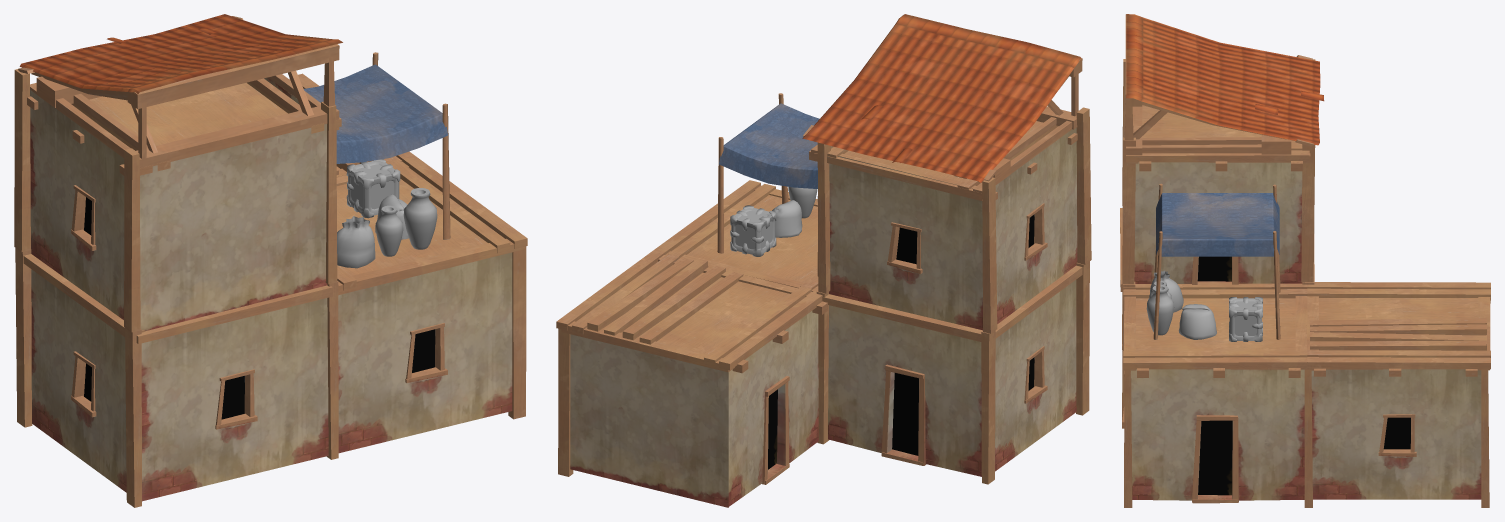
Rendered from SM_house_4.fbx.
3 views of the same model, side by side, from view 1: azimuth 30°, elevation 25°; view 2: azimuth 150°, elevation 25°; view 3: azimuth 270°, elevation 25° (orthographic). The views are drawn at different scales.
Parts seen in each view (by area): view 1: polySurface1076, polySurface995, polySurface993, polySurface994, polySurface992, polySurface1053, polySurface991, SM_SmallCrate3, polySurface998, polySurface999, SM_Bag_012, polySurface990 (+2 smaller); view 2: polySurface1076, polySurface992, polySurface993, polySurface995, polySurface994, SM_SmallCrate3, polySurface989, polySurface1052, polySurface996, polySurface1046, polySurface1047, polySurface1045 (+4 smaller); view 3: polySurface1076, polySurface1045, polySurface998, polySurface996, polySurface1047, SM_SmallCrate3, polySurface1046, polySurface1048, polySurface1054, polySurface1052, SM_Bag_013, polySurface1053 (+2 smaller).
Part boxes in pixels (left/top/right/bottom): polySurface1076: left=18, top=14, right=527, bottom=501; polySurface995: left=124, top=148, right=140, bottom=332; polySurface993: left=14, top=69, right=30, bottom=251; polySurface994: left=125, top=328, right=141, bottom=507; polySurface992: left=15, top=248, right=32, bottom=427; polySurface1053: left=508, top=246, right=526, bottom=419; polySurface991: left=136, top=285, right=332, bottom=343; SM_SmallCrate3: left=346, top=159, right=400, bottom=218; polySurface998: left=321, top=101, right=337, bottom=284; polySurface999: left=326, top=281, right=338, bottom=459; SM_Bag_012: left=337, top=216, right=375, bottom=268; polySurface990: left=23, top=254, right=144, bottom=336; polySurface1076: left=556, top=14, right=1082, bottom=507; polySurface992: left=981, top=330, right=995, bottom=484; polySurface993: left=982, top=177, right=997, bottom=333; polySurface995: left=1076, top=107, right=1091, bottom=264; polySurface994: left=1076, top=261, right=1089, bottom=415; SM_SmallCrate3: left=730, top=205, right=776, bottom=256; polySurface989: left=822, top=294, right=982, bottom=341; polySurface1052: left=558, top=328, right=573, bottom=476; polySurface996: left=817, top=142, right=830, bottom=293; polySurface1046: left=604, top=258, right=708, bottom=335; polySurface1047: left=622, top=265, right=725, bottom=340; polySurface1045: left=587, top=257, right=693, bottom=331; polySurface1076: left=1122, top=14, right=1490, bottom=503; polySurface1045: left=1310, top=340, right=1486, bottom=350; polySurface998: left=1122, top=137, right=1135, bottom=284; polySurface996: left=1301, top=144, right=1315, bottom=282; polySurface1047: left=1310, top=324, right=1486, bottom=335; SM_SmallCrate3: left=1229, top=297, right=1262, bottom=341; polySurface1046: left=1310, top=332, right=1486, bottom=341; polySurface1048: left=1310, top=318, right=1486, bottom=326; polySurface1054: left=1304, top=369, right=1312, bottom=507; polySurface1052: left=1481, top=369, right=1489, bottom=507; SM_Bag_013: left=1178, top=304, right=1216, bottom=339; polySurface1053: left=1124, top=369, right=1132, bottom=507.
Size of the model in its own units: 9.14 by 9.08 by 8.92.
